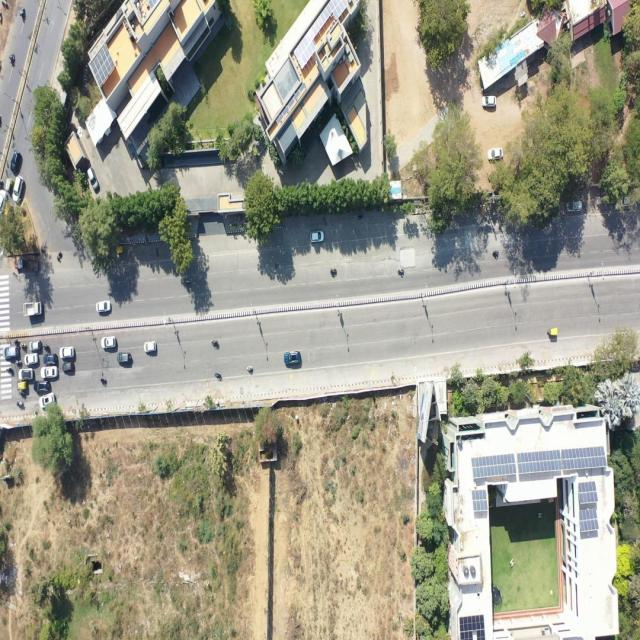3W: (114, 241, 128, 258), (546, 326, 560, 342), (5, 176, 15, 193), (16, 381, 29, 391)
Cars: (85, 166, 102, 193), (11, 174, 26, 203), (9, 146, 22, 175), (283, 349, 302, 367), (38, 392, 56, 410), (619, 193, 638, 210), (40, 364, 60, 380), (486, 146, 504, 163), (58, 344, 76, 361), (2, 345, 21, 361), (95, 298, 112, 315), (564, 200, 584, 214), (100, 335, 117, 351), (142, 339, 158, 356), (116, 350, 133, 366), (0, 187, 8, 221), (310, 229, 326, 245), (42, 352, 59, 367), (17, 367, 34, 382), (33, 379, 51, 393), (481, 94, 497, 109), (24, 352, 39, 367), (61, 360, 76, 374), (29, 339, 41, 352)
M2W: (12, 336, 28, 350), (18, 6, 29, 24), (8, 50, 17, 69), (210, 338, 221, 351), (15, 400, 26, 412), (42, 343, 53, 355), (100, 376, 110, 388), (396, 266, 406, 278), (5, 366, 15, 378), (17, 390, 29, 400), (182, 277, 194, 287), (329, 266, 338, 279), (213, 370, 223, 381), (491, 249, 501, 260), (246, 364, 254, 376), (14, 359, 24, 366), (0, 109, 2, 132)
Truck: (20, 297, 48, 322)
